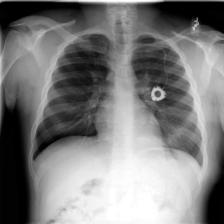normal: (27, 24, 209, 175)
